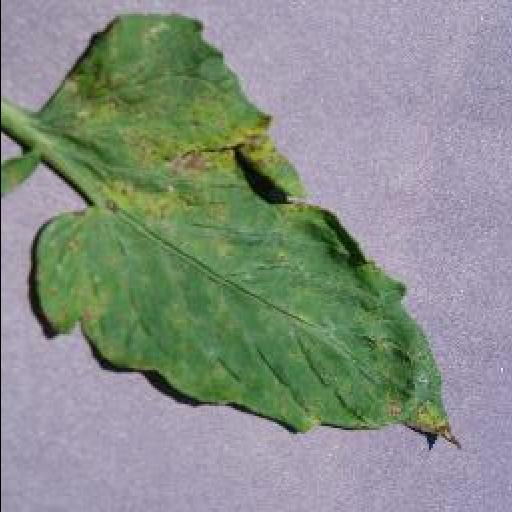disease_tomato: (42, 15, 462, 444)
